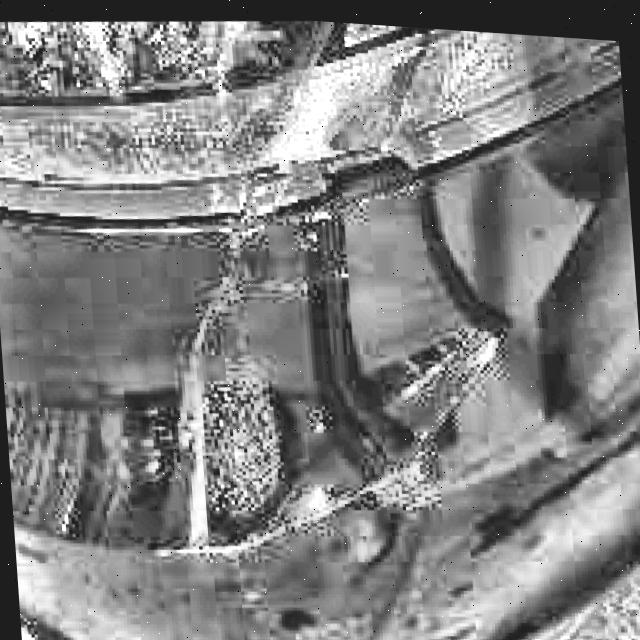tail_lamp: (224, 15, 407, 171)
